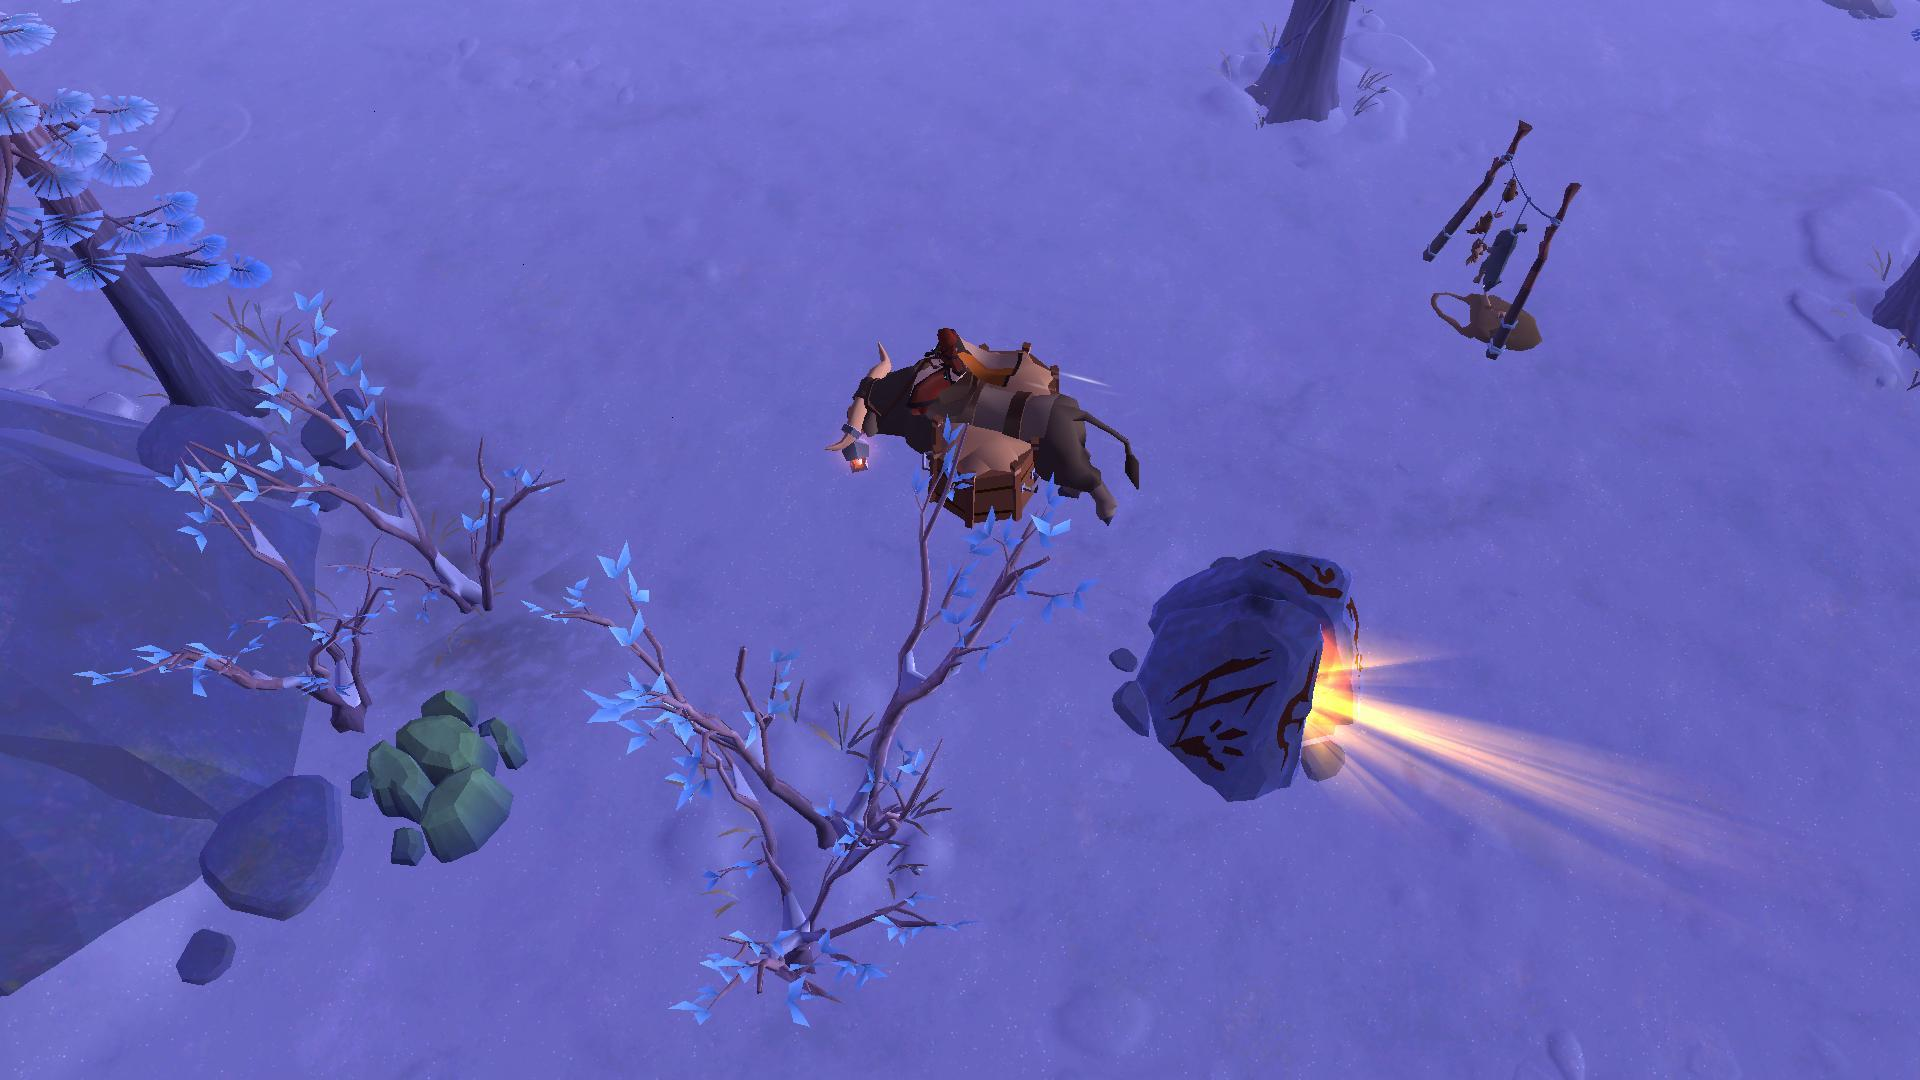rock_t3: (343, 679, 539, 864)
